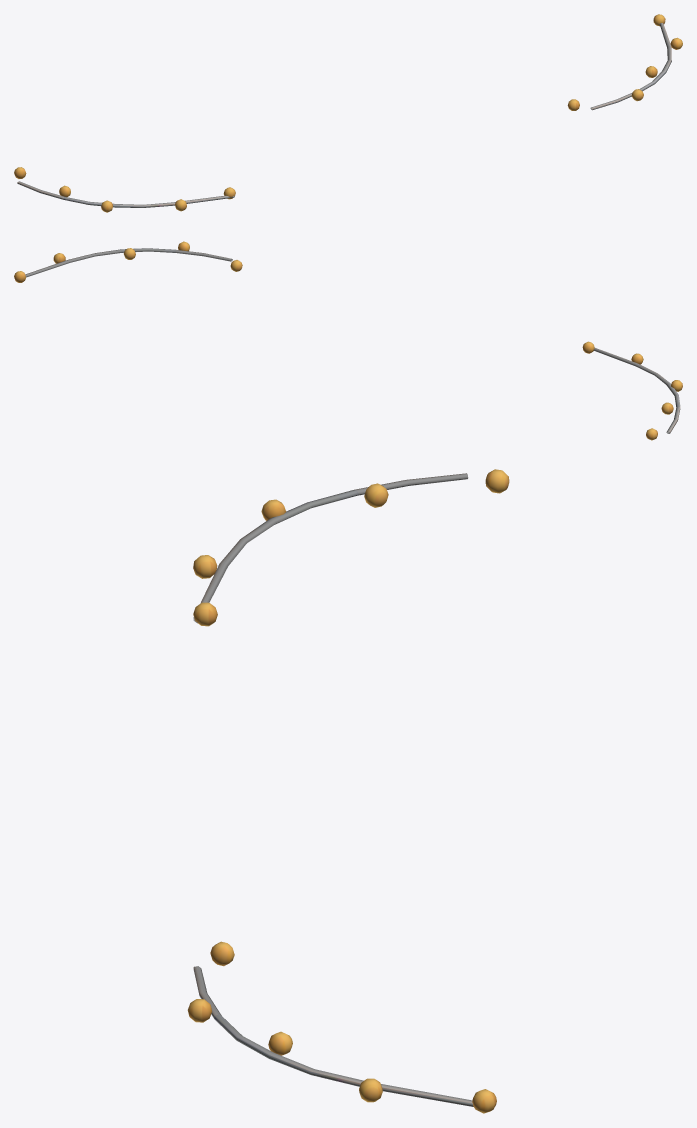
Rendered from pref_sm_beach_WSJ_deng03_e_lv3.fbx.
3 renders of one model, top to bottom at view 1: azimuth 30°, elevation 25°; view 2: azimuth 150°, elevation 25°; view 3: azimuth 270°, elevation 25°, orthographic. The views are drawn at different scales.
Visible parts, largest first — view 1: pref_sm_beach_WSJ_deng03_e_lv3; view 2: pref_sm_beach_WSJ_deng03_e_lv3; view 3: pref_sm_beach_WSJ_deng03_e_lv3.
Part boxes in pixels (bbox=[...]): pref_sm_beach_WSJ_deng03_e_lv3: bbox=[14, 14, 682, 212]; pref_sm_beach_WSJ_deng03_e_lv3: bbox=[14, 241, 682, 440]; pref_sm_beach_WSJ_deng03_e_lv3: bbox=[187, 469, 509, 1113].
Size of the model in its own units: 12.93 by 0.193 by 2.77.
